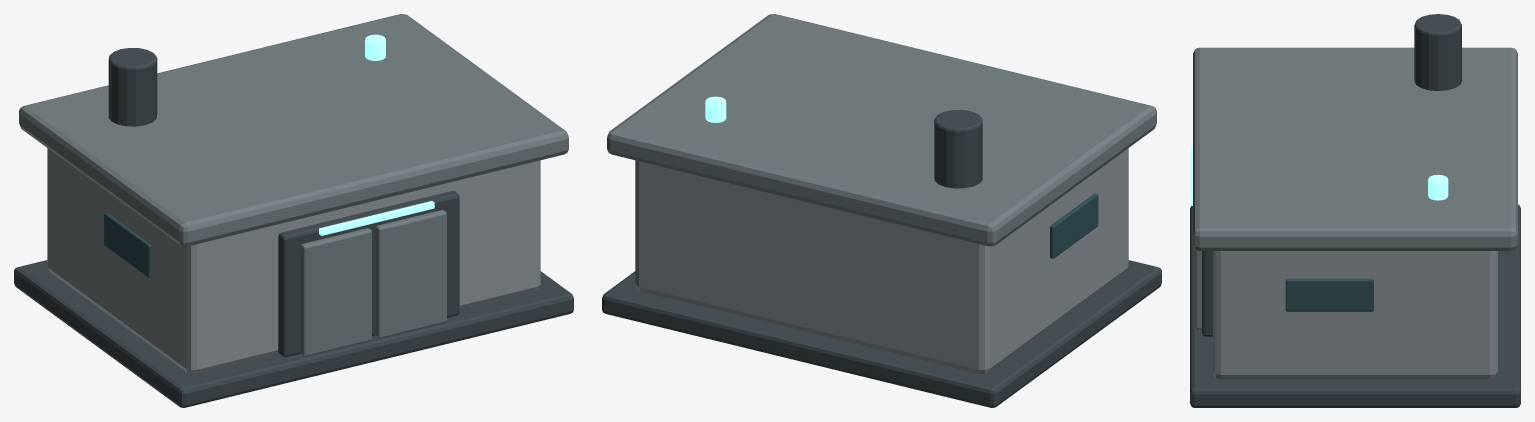
File: ArcticBunker_A.fbx
3 views of the same model, side by side, from view 1: azimuth 30°, elevation 25°; view 2: azimuth 150°, elevation 25°; view 3: azimuth 270°, elevation 25° (orthographic). The views are drawn at different scales.
Visible parts, largest first — view 1: Bunker Roof, Bunker Main Shell, Bunker Foundation, Bunker Door Left, Bunker Door Right, Bunker Front Recess, Bunker Roof Vent, Bunker Side Window Left, Bunker Door Light, Bunker Beacon; view 2: Bunker Roof, Bunker Main Shell, Bunker Foundation, Bunker Roof Vent, Bunker Side Window Left, Bunker Beacon; view 3: Bunker Roof, Bunker Main Shell, Bunker Foundation, Bunker Roof Vent, Bunker Side Window Right, Bunker Front Recess, Bunker Door Right, Bunker Beacon.
Boxes of the visible parts, x1=… form: Bunker Roof: x1=19, y1=14, x2=568, y2=246; Bunker Main Shell: x1=47, y1=148, x2=540, y2=374; Bunker Foundation: x1=14, y1=260, x2=573, y2=407; Bunker Door Left: x1=300, y1=228, x2=371, y2=356; Bunker Door Right: x1=375, y1=210, x2=446, y2=338; Bunker Front Recess: x1=278, y1=191, x2=459, y2=357; Bunker Roof Vent: x1=108, y1=48, x2=157, y2=126; Bunker Side Window Left: x1=104, y1=213, x2=152, y2=277; Bunker Door Light: x1=319, y1=201, x2=434, y2=235; Bunker Beacon: x1=365, y1=34, x2=385, y2=60; Bunker Roof: x1=607, y1=14, x2=1156, y2=246; Bunker Main Shell: x1=635, y1=148, x2=1128, y2=374; Bunker Foundation: x1=602, y1=260, x2=1161, y2=407; Bunker Roof Vent: x1=934, y1=109, x2=982, y2=188; Bunker Side Window Left: x1=1050, y1=193, x2=1098, y2=258; Bunker Beacon: x1=705, y1=96, x2=726, y2=122; Bunker Roof: x1=1193, y1=47, x2=1517, y2=250; Bunker Main Shell: x1=1213, y1=251, x2=1497, y2=379; Bunker Foundation: x1=1190, y1=204, x2=1520, y2=407; Bunker Roof Vent: x1=1414, y1=14, x2=1461, y2=90; Bunker Side Window Right: x1=1285, y1=278, x2=1373, y2=311; Bunker Front Recess: x1=1202, y1=251, x2=1212, y2=336; Bunker Door Right: x1=1195, y1=250, x2=1201, y2=329; Bunker Beacon: x1=1428, y1=174, x2=1448, y2=200.
Bounding box in the file's own units: 7.8 × 4.57 × 5.8.
